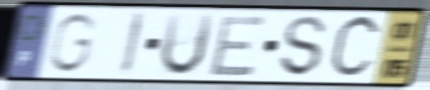C: (326, 12, 384, 84)
E: (206, 13, 270, 78)
G: (44, 10, 100, 76)
I: (116, 10, 149, 78)
S: (278, 14, 330, 80)
U: (157, 11, 218, 79)
